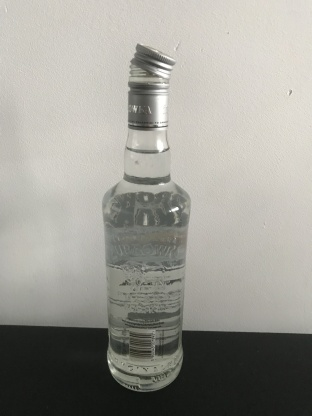nakretka: (126, 41, 177, 131)
